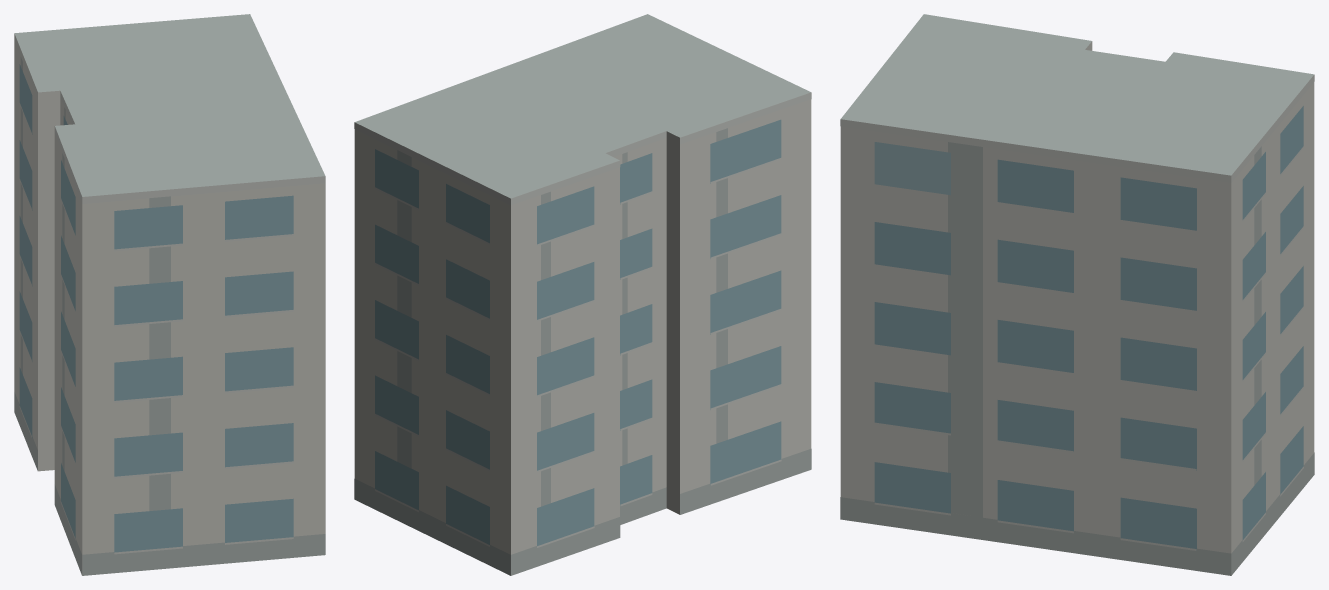
Rendered from survey-upis-32893670.glb.
The picture shows the model from 3 angles, left to right: view 1: azimuth 30°, elevation 25°; view 2: azimuth 150°, elevation 25°; view 3: azimuth 270°, elevation 25°; orthographic projection. The views are drawn at different scales.
Parts seen in each view (by area): view 1: survey-upis-32893670.tmp; view 2: survey-upis-32893670.tmp; view 3: survey-upis-32893670.tmp.
Part boxes in pixels (x1,y1,x2,y2): survey-upis-32893670.tmp: [14, 14, 325, 575]; survey-upis-32893670.tmp: [354, 14, 811, 575]; survey-upis-32893670.tmp: [840, 14, 1314, 575].
Size of the model in its own units: 11.52 by 13.3 by 14.28.
